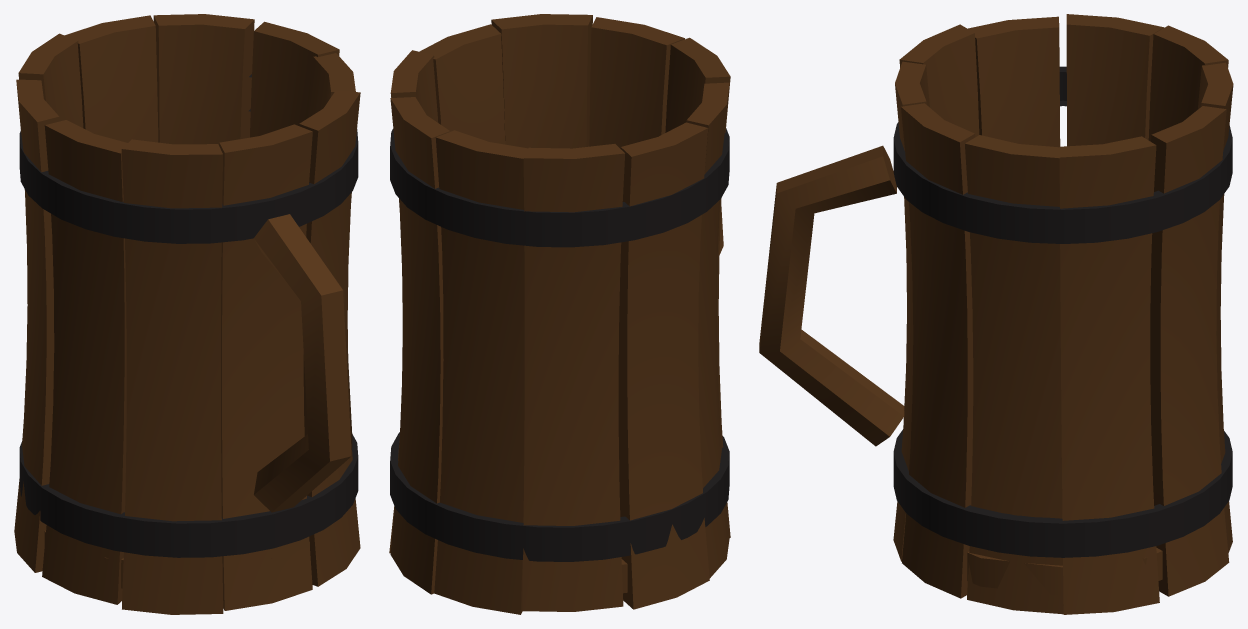
File: humpen.glb
3 views of the same model, side by side, from view 1: azimuth 30°, elevation 25°; view 2: azimuth 150°, elevation 25°; view 3: azimuth 270°, elevation 25° (orthographic).
Visible parts, largest first — view 1: humpen; view 2: humpen; view 3: humpen.
Boxes of the visible parts, x1,y1,x2,y2 form: humpen: [14, 14, 360, 614]; humpen: [389, 14, 730, 614]; humpen: [759, 14, 1233, 614].
Bounding box in the file's own units: 0.1103 × 0.1619 × 0.1506.
